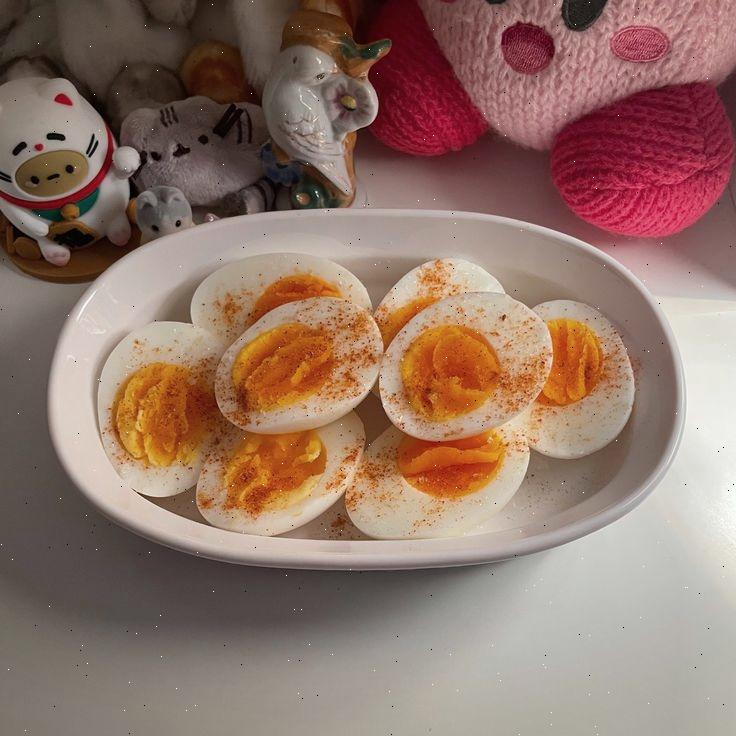eggs: (117, 264, 642, 526)
